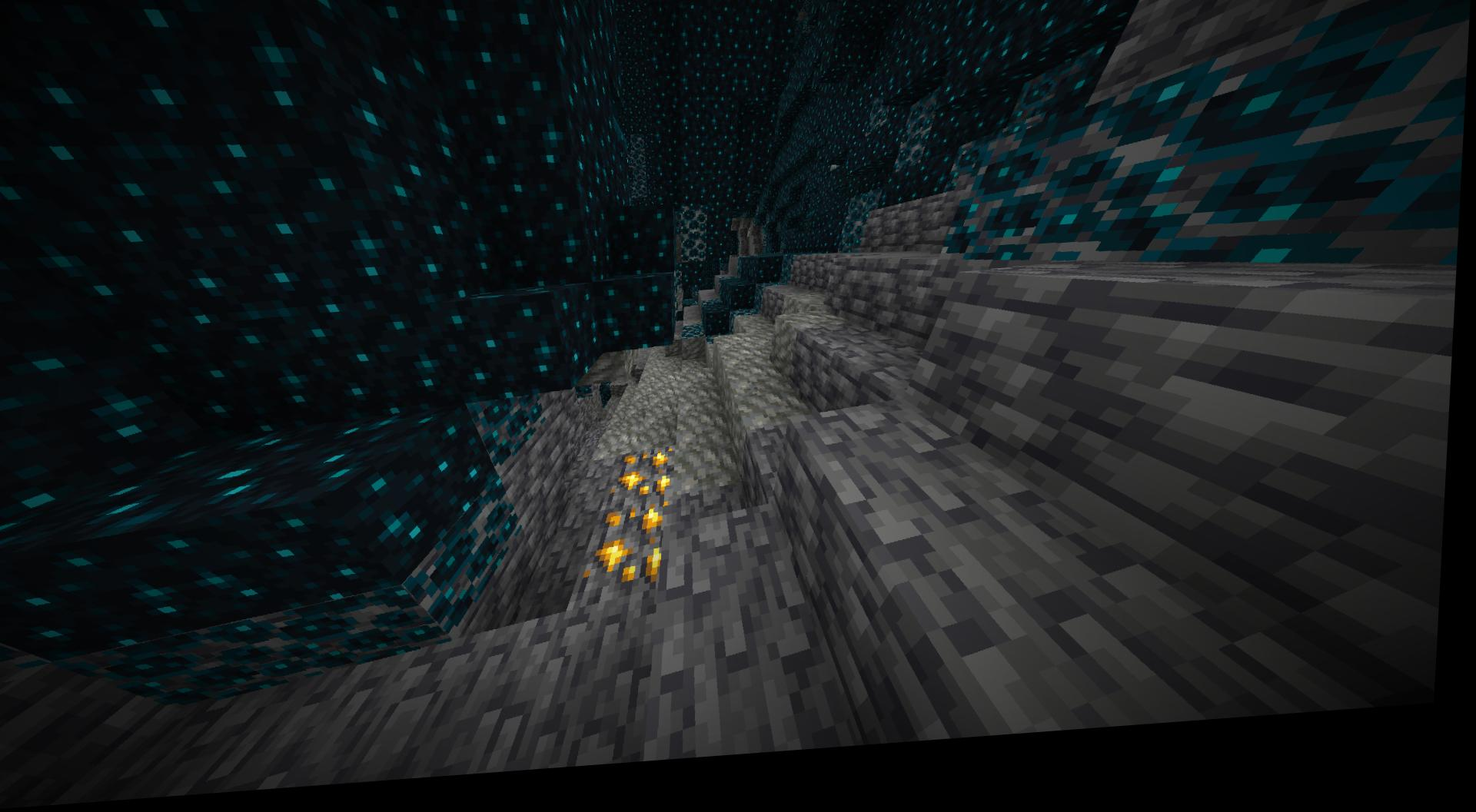gold ore: (586, 516, 677, 606), (609, 458, 682, 519)
